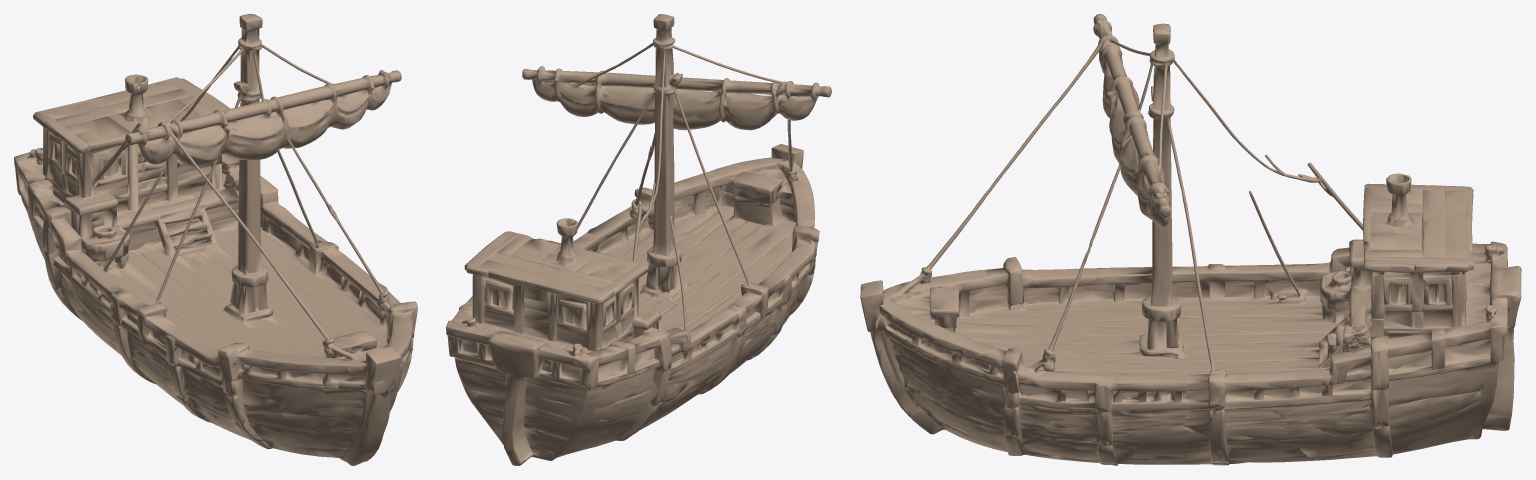
Rendered from wooden_ships_background.glb.
3 views of the same model, side by side, from view 1: azimuth 30°, elevation 25°; view 2: azimuth 150°, elevation 25°; view 3: azimuth 270°, elevation 25° (orthographic). The views are drawn at different scales.
Visible parts, largest first — view 1: tripo_node_0d65987a-6b5f-4b1f-91ca-8314542c7479; view 2: tripo_node_0d65987a-6b5f-4b1f-91ca-8314542c7479; view 3: tripo_node_0d65987a-6b5f-4b1f-91ca-8314542c7479.
Part boxes in pixels (left/top/right/bottom): tripo_node_0d65987a-6b5f-4b1f-91ca-8314542c7479: left=14, top=14, right=417, bottom=465; tripo_node_0d65987a-6b5f-4b1f-91ca-8314542c7479: left=446, top=14, right=831, bottom=465; tripo_node_0d65987a-6b5f-4b1f-91ca-8314542c7479: left=860, top=14, right=1521, bottom=465.
Bounding box in the file's own units: 0.562 × 0.6571 × 0.9796.
